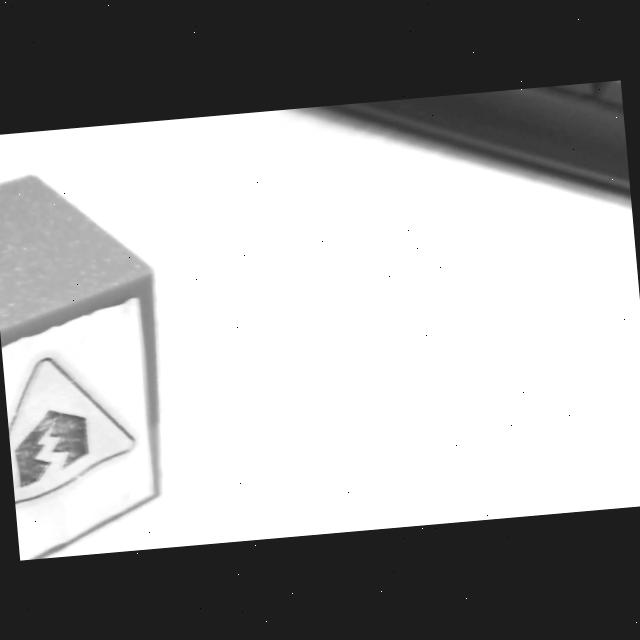Earthquake: (2, 349, 140, 506), (8, 358, 138, 504)
